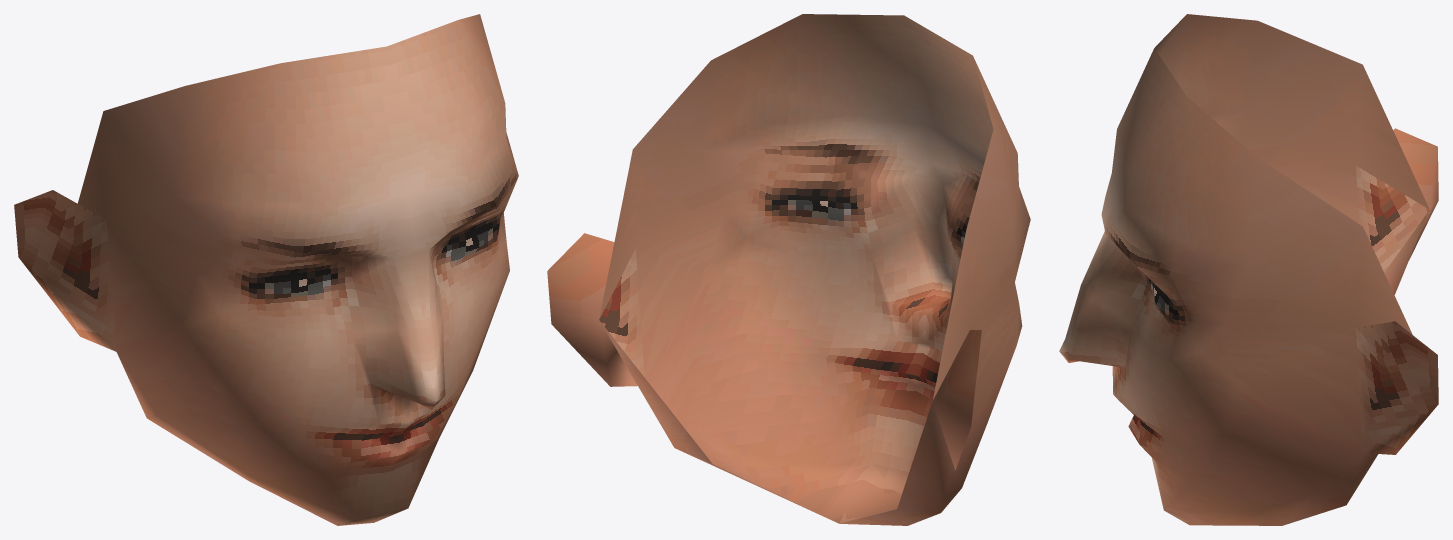
The model's file is f_hair009.glb.
3 renders of one model, left to right at view 1: azimuth 30°, elevation 25°; view 2: azimuth 150°, elevation 25°; view 3: azimuth 270°, elevation 25°, orthographic. The views are drawn at different scales.
Bounding box in the file's own units: 19.4 × 20.1 × 14.94.
1 material, 1 textured.
